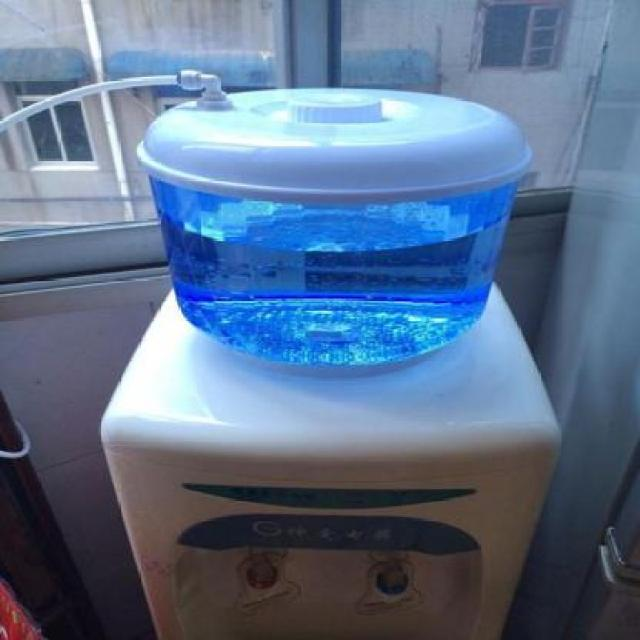coolerbottle: (134, 82, 531, 366)
